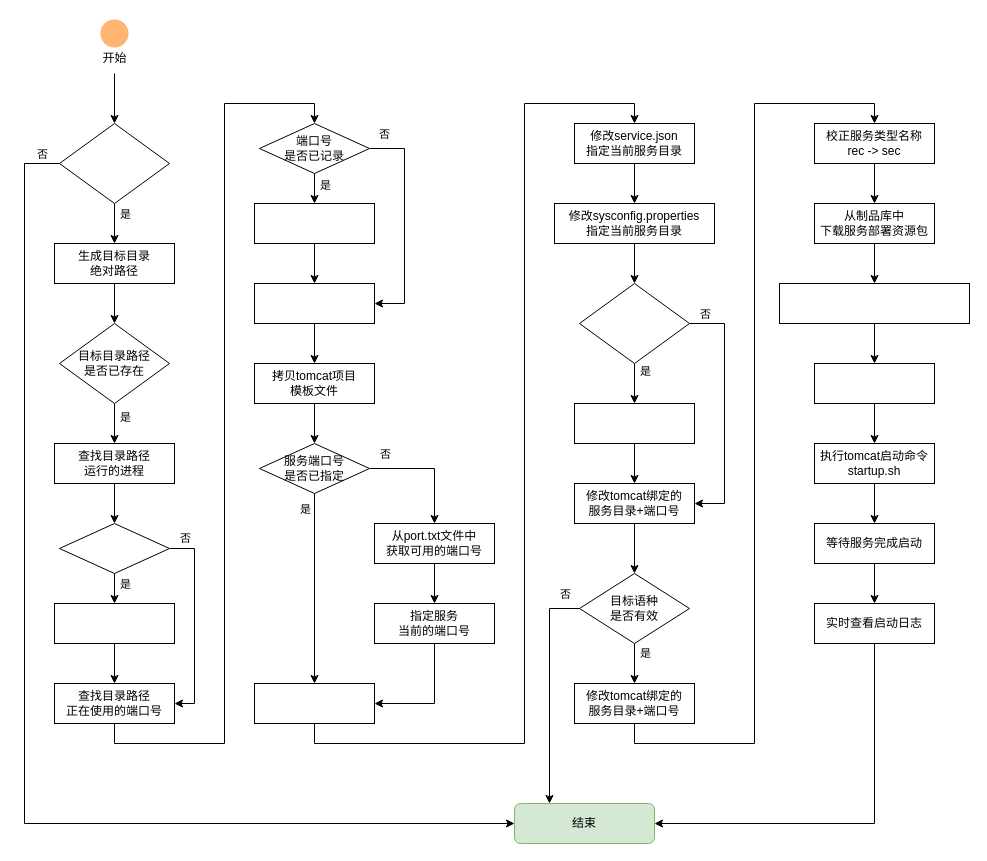
The diagram is 987 pixels wide and 861 high, and some of its shapes have lost their labels. The shapes that lost their labels are listed below. From the top down, each one's box as (x1, y1, x2, y2) in pixels, then its label:
(58, 122, 170, 204): 目标目录名称 是否有效
(254, 202, 374, 244): 缓存目录路径 绑定使用的端口号
(254, 282, 374, 324): 删除目录路径 等待重建
(578, 282, 690, 364): 之前是否存在 workflow配置
(778, 282, 970, 324): 解压资源包 资源从临时目录移动到服务目录
(814, 362, 934, 404): 更新workflow配置 调整JVM内存大小
(574, 402, 694, 444): 还原之前的 workflow配置
(58, 522, 170, 574): 进程是否存在
(54, 602, 174, 644): 停止当前进程
(254, 682, 374, 724): 在readme.md文件中 记录当前服务端口号
